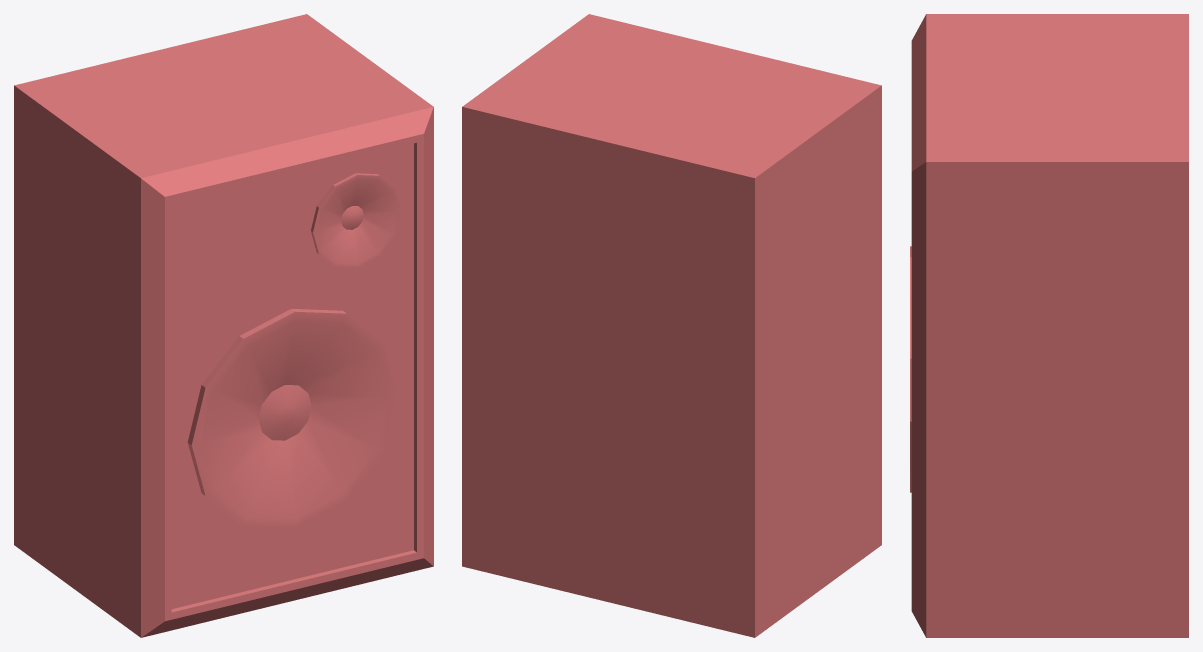
The model's file is Speaker_Cabin.fbx.
3 views of the same model, side by side, from view 1: azimuth 30°, elevation 25°; view 2: azimuth 150°, elevation 25°; view 3: azimuth 270°, elevation 25° (orthographic). The views are drawn at different scales.
Visible parts, largest first — view 1: Speaker_low; view 2: Speaker_low; view 3: Speaker_low.
Part boxes in pixels (bbox=[...]): Speaker_low: bbox=[14, 14, 433, 637]; Speaker_low: bbox=[462, 14, 881, 637]; Speaker_low: bbox=[910, 14, 1188, 637].
Size of the model in its own units: 4000 by 6000 by 3184.
